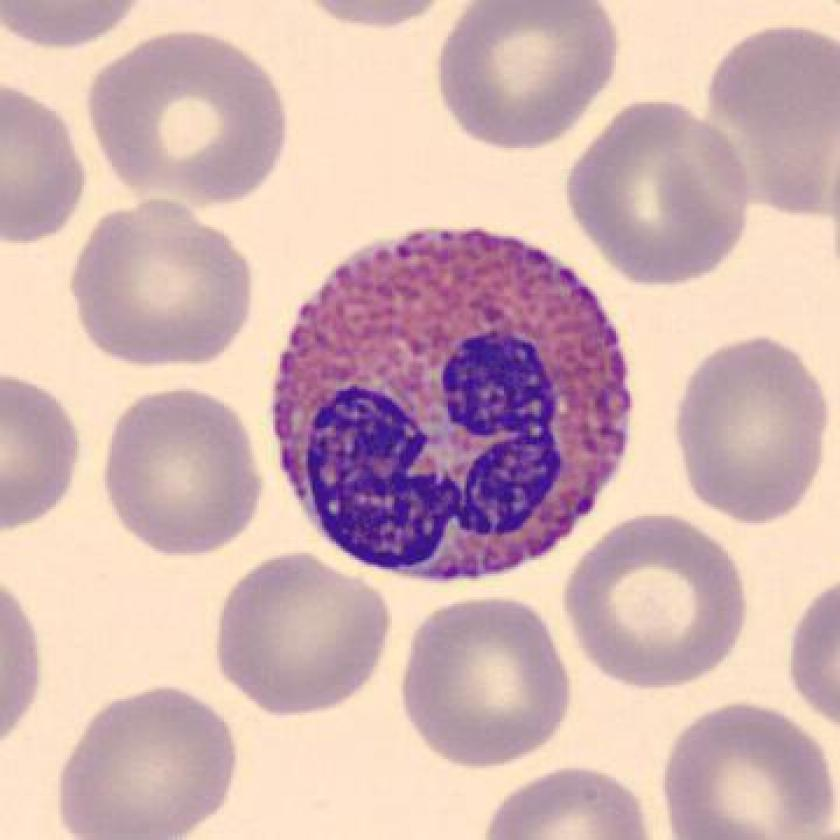eosinophil: (262, 214, 645, 593)
